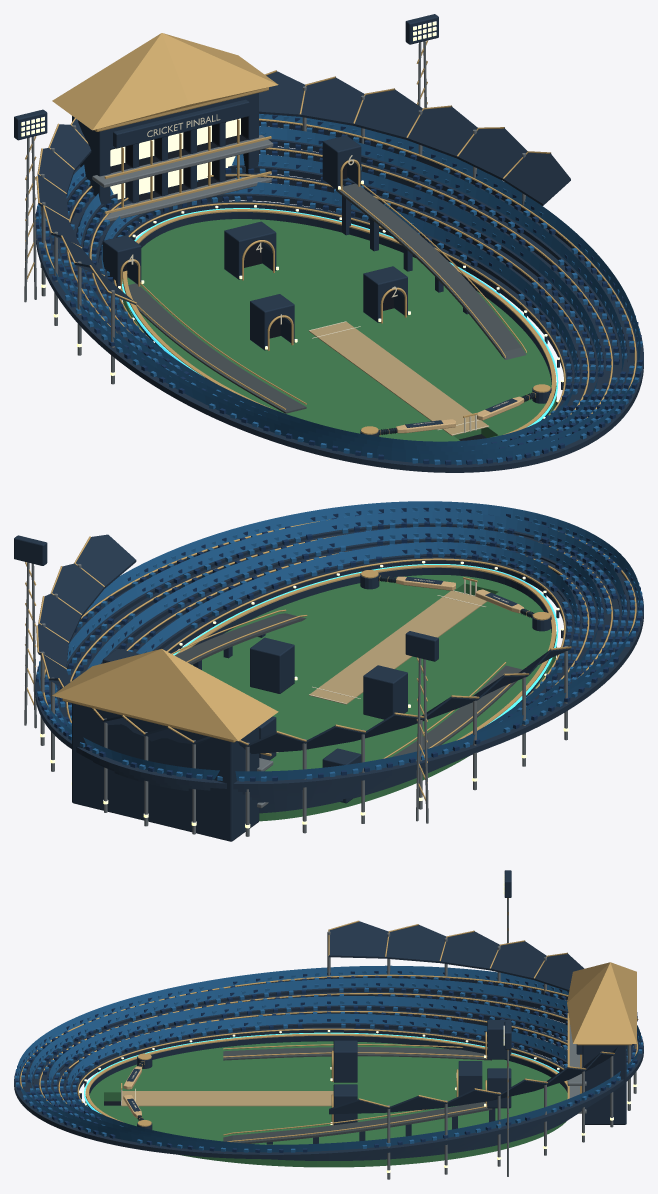
The model's file is cricket-stadium-colosseum-r5.glb.
3 renders of one model, top to bottom at view 1: azimuth 30°, elevation 25°; view 2: azimuth 150°, elevation 25°; view 3: azimuth 270°, elevation 25°, orthographic. The views are drawn at different scales.
Visible parts, largest first — view 1: Arena_Field_Substrate, Pavilion_Peaked_Roof, Individual_Seats_1, Individual_Seats_0, Crowd_Band_09, Seating_Terrace_09, Crowd_Band_04, Crowd_Band_07, Pavilion_Shell, Crowd_Band_01, Measured_Pitch, Six_Ramp (+36 smaller); view 2: Arena_Field_Substrate, Pavilion_Shell, Pavilion_Peaked_Roof, Crowd_Band_09, Individual_Seats_0, Individual_Seats_1, Crowd_Band_07, Crowd_Band_04, Seating_Terrace_09, Crowd_Band_01, Measured_Pitch, Seating_Terrace_00 (+35 smaller); view 3: Arena_Field_Substrate, Crowd_Band_09, Crowd_Band_07, Individual_Seats_0, Crowd_Band_04, Individual_Seats_1, Seating_Terrace_09, Crowd_Band_01, Pavilion_Peaked_Roof, Measured_Pitch, Seating_Terrace_00, Boundary_Cushion (+32 smaller).
Boxes of the visible parts, <box> form: Arena_Field_Substrate: <box>122,219,556,441</box>; Pavilion_Peaked_Roof: <box>52,33,278,130</box>; Individual_Seats_1: <box>36,115,642,465</box>; Individual_Seats_0: <box>35,114,642,465</box>; Crowd_Band_09: <box>38,113,640,464</box>; Seating_Terrace_09: <box>35,120,643,472</box>; Crowd_Band_04: <box>78,154,600,451</box>; Crowd_Band_07: <box>58,126,624,454</box>; Pavilion_Shell: <box>72,93,258,218</box>; Crowd_Band_01: <box>101,182,577,446</box>; Measured_Pitch: <box>309,322,488,435</box>; Six_Ramp: <box>336,183,526,359</box>; Arena_Field_Substrate: <box>192,575,556,821</box>; Pavilion_Shell: <box>72,703,259,841</box>; Pavilion_Peaked_Roof: <box>52,649,278,741</box>; Crowd_Band_09: <box>38,501,640,780</box>; Individual_Seats_0: <box>36,507,643,781</box>; Individual_Seats_1: <box>36,507,643,781</box>; Crowd_Band_07: <box>55,511,624,729</box>; Crowd_Band_04: <box>87,527,600,733</box>; Seating_Terrace_09: <box>35,541,643,789</box>; Crowd_Band_01: <box>136,542,577,737</box>; Measured_Pitch: <box>309,590,486,704</box>; Seating_Terrace_00: <box>163,557,572,813</box>; Arena_Field_Substrate: <box>85,1041,567,1167</box>; Crowd_Band_09: <box>17,965,641,1152</box>; Crowd_Band_07: <box>29,978,627,1144</box>; Individual_Seats_0: <box>15,971,642,1152</box>; Crowd_Band_04: <box>48,996,567,1144</box>; Individual_Seats_1: <box>15,971,642,1152</box>; Seating_Terrace_09: <box>14,976,643,1158</box>; Crowd_Band_01: <box>68,1013,567,1144</box>; Pavilion_Peaked_Roof: <box>567,962,636,1043</box>; Measured_Pitch: <box>122,1091,333,1106</box>; Seating_Terrace_00: <box>72,1027,567,1160</box>; Boundary_Cushion: <box>86,1036,567,1108</box>.
Bounding box in the file's own units: 11.04 × 4.56 × 16.41.
